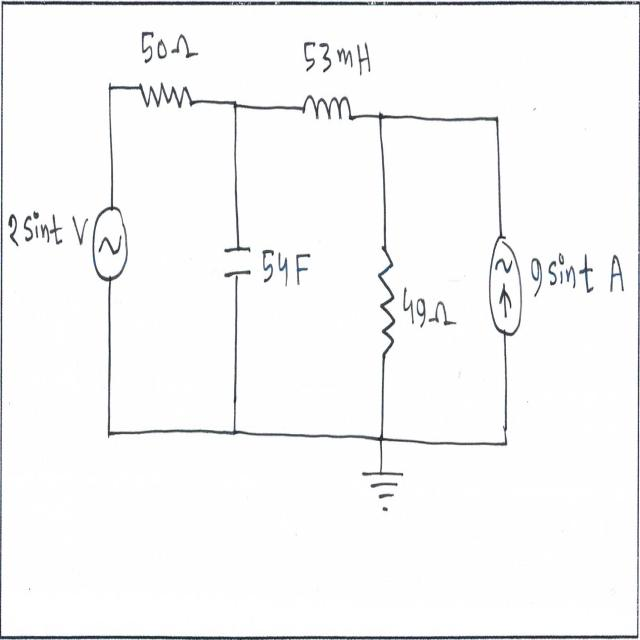ac_current: (87, 203, 131, 297)
capacitor: (218, 233, 254, 289)
current_source: (487, 226, 525, 344)
ground: (356, 464, 409, 520)
inductor: (296, 85, 357, 136)
resistor: (376, 239, 398, 365), (137, 77, 197, 123)
